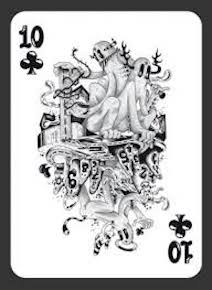TenOfClubs: (8, 8, 204, 282)
